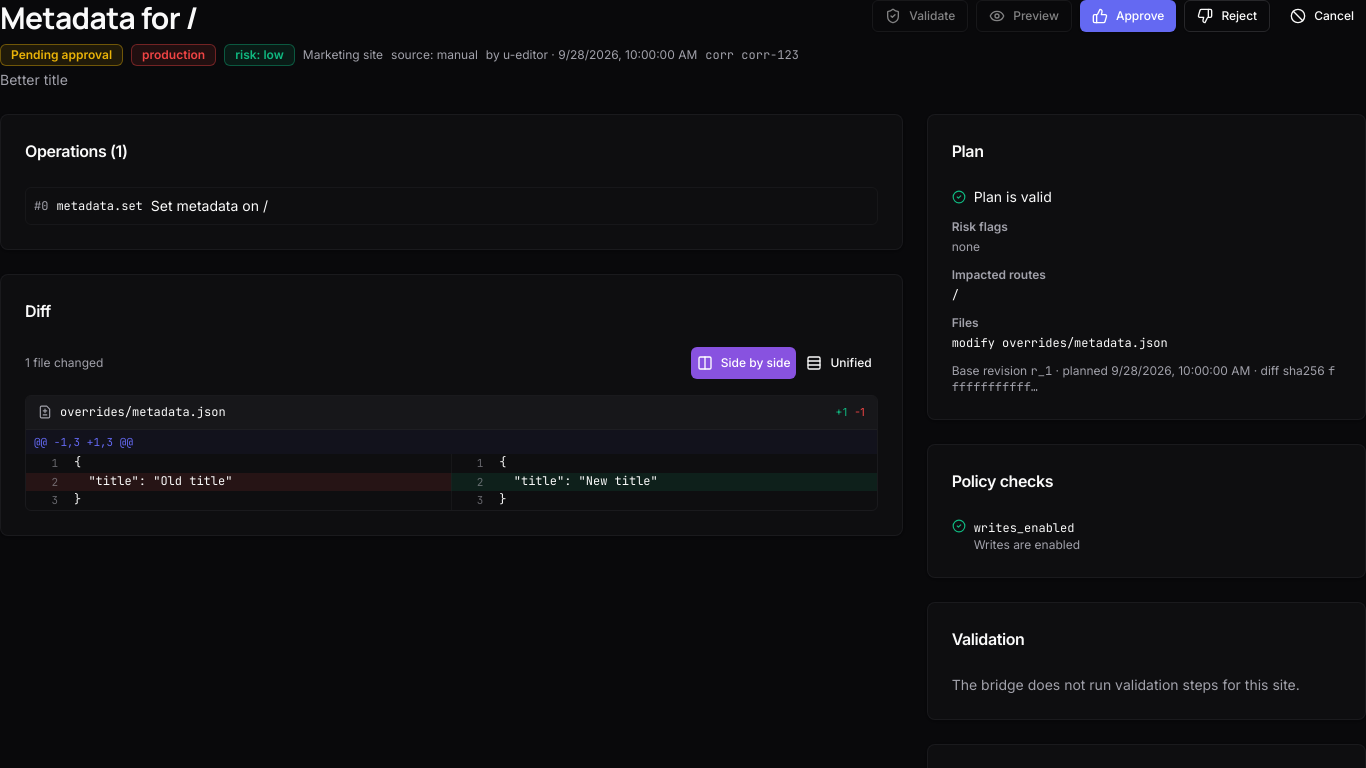
editors cannot approve (disabled with reason); deployers can
Later steps or results of the test are not shown.
Click the button with test id "approve-btn": point(1128, 16) [1080,0,1176,32]
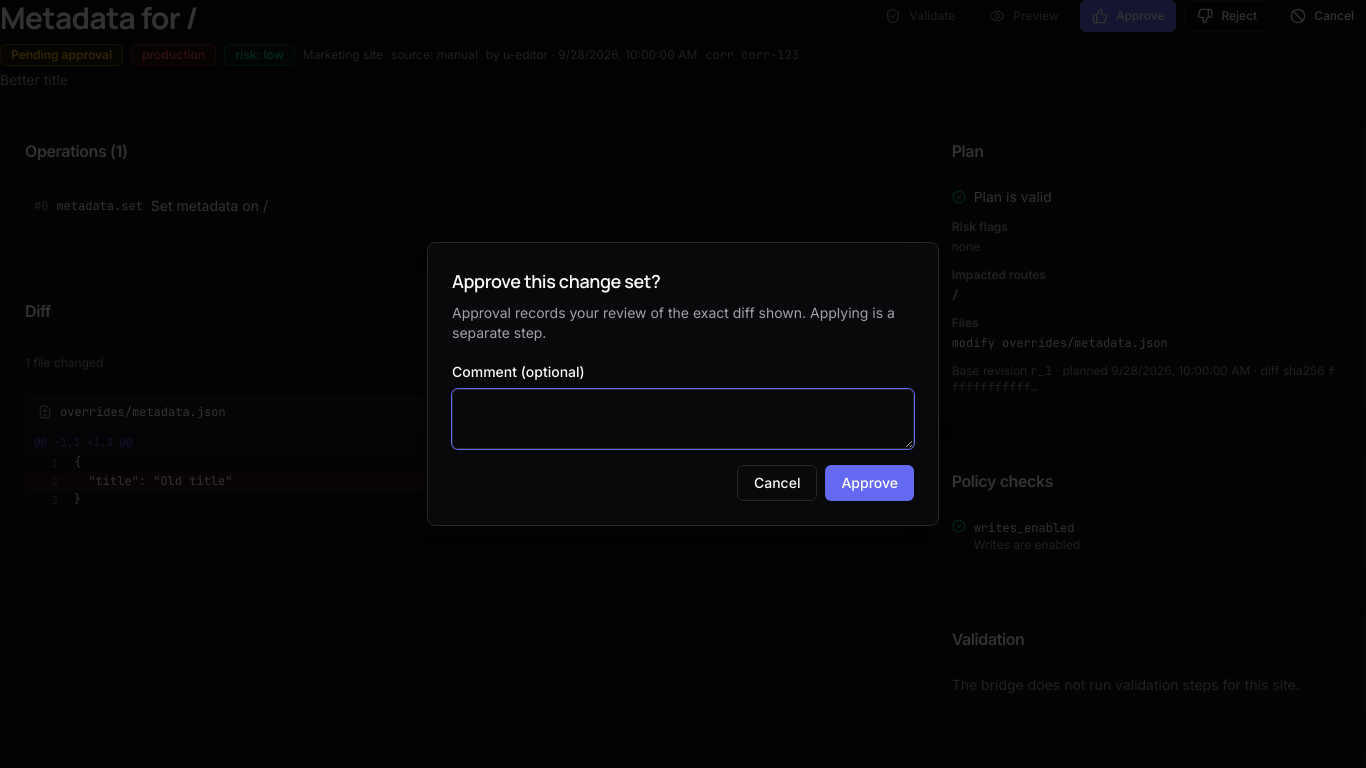
In the text box with test id "approve-dialog-reason": point(683, 419) [452,389,914,449], type "LGTM"
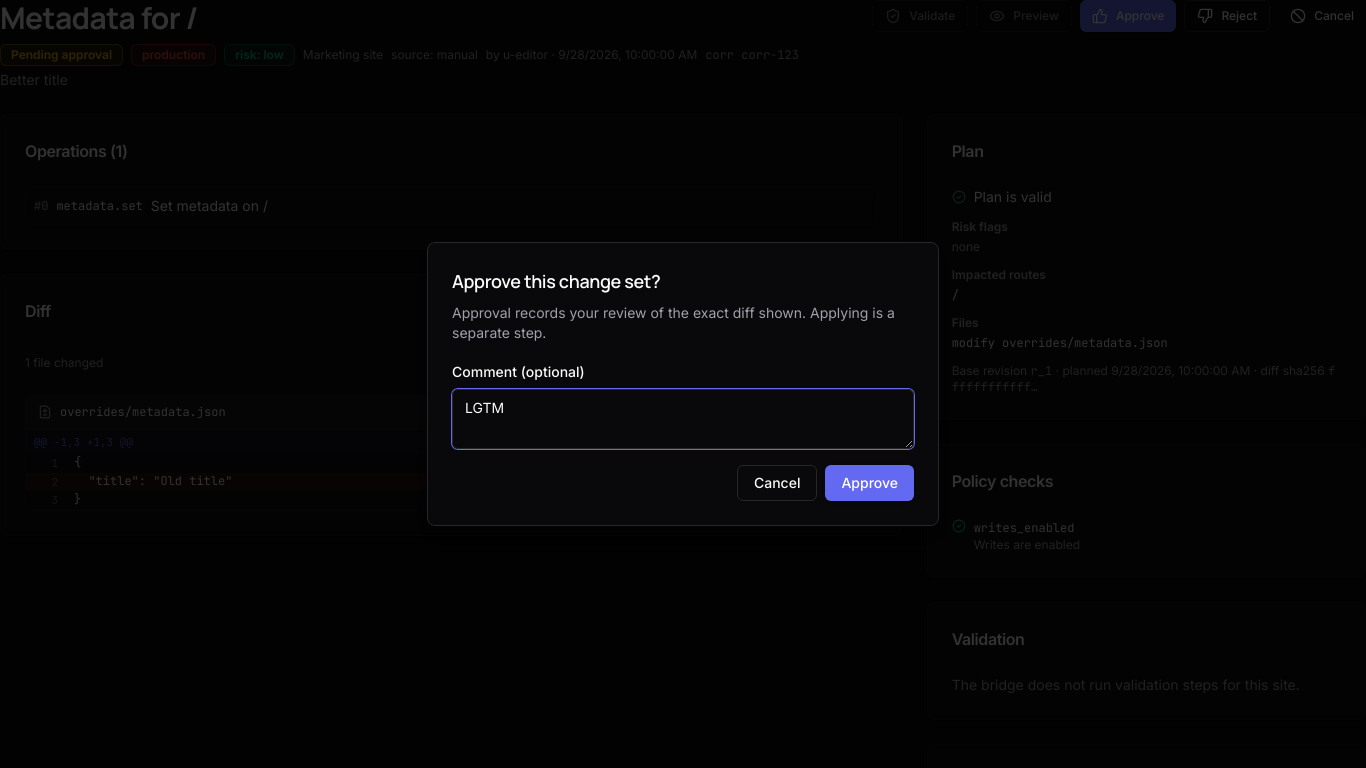
Click the button with test id "approve-dialog-confirm": point(870, 483) [825,465,914,501]
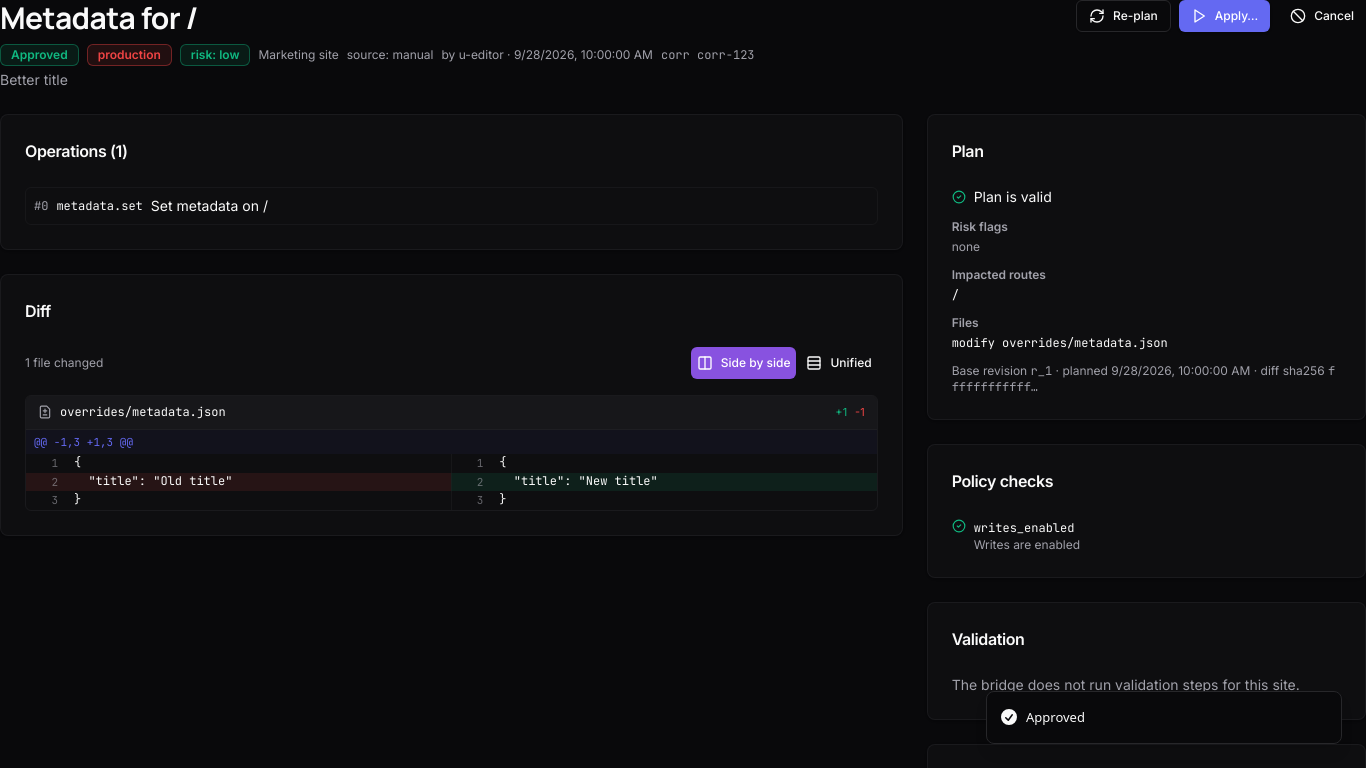
Expected: the text with test id "changeset-status" reads "Approved", [11,47,68,62]
